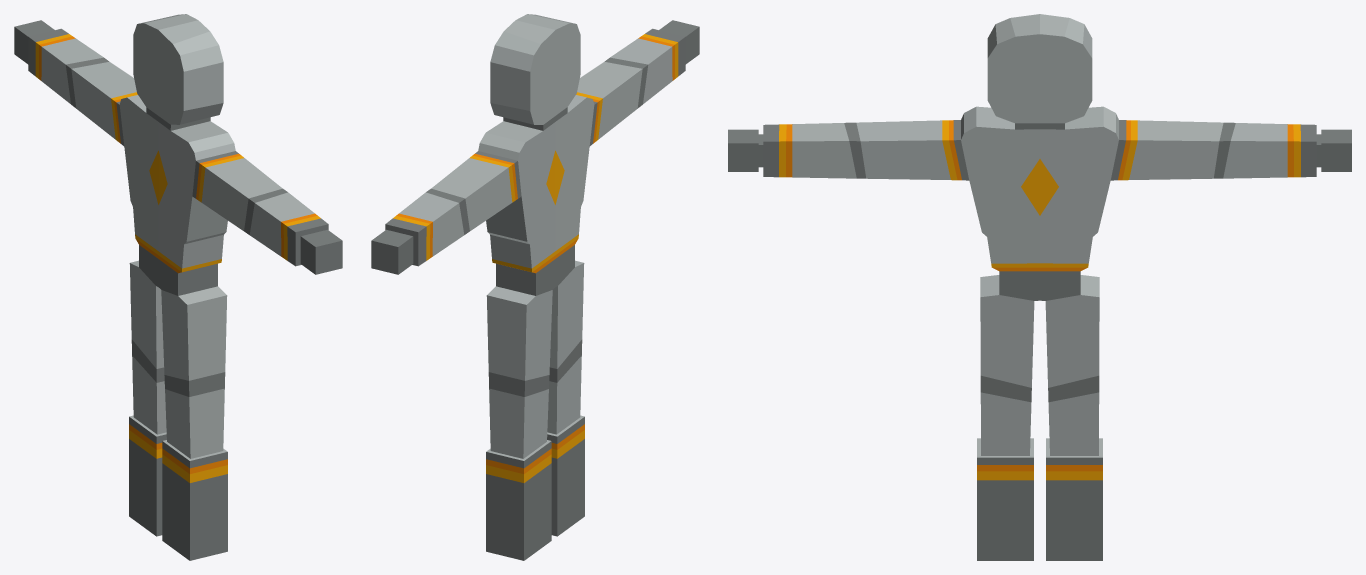
File: model dsh done.fbx
3 views of the same model, side by side, from view 1: azimuth 30°, elevation 25°; view 2: azimuth 150°, elevation 25°; view 3: azimuth 270°, elevation 25° (orthographic). The views are drawn at different scales.
Visible parts, largest first — view 1: Cube.015; view 2: Cube.015; view 3: Cube.015.
Part boxes in pixels (x1,y1,x2,y2): Cube.015: [14, 14, 342, 560]; Cube.015: [371, 14, 699, 560]; Cube.015: [728, 14, 1351, 560].
Bounding box in the file's own units: 10.92 × 131 × 140.
